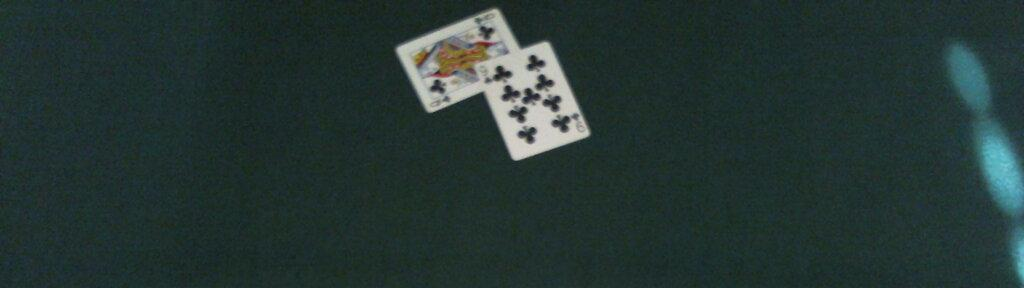nine: (474, 40, 593, 160)
queen: (394, 6, 521, 112)
